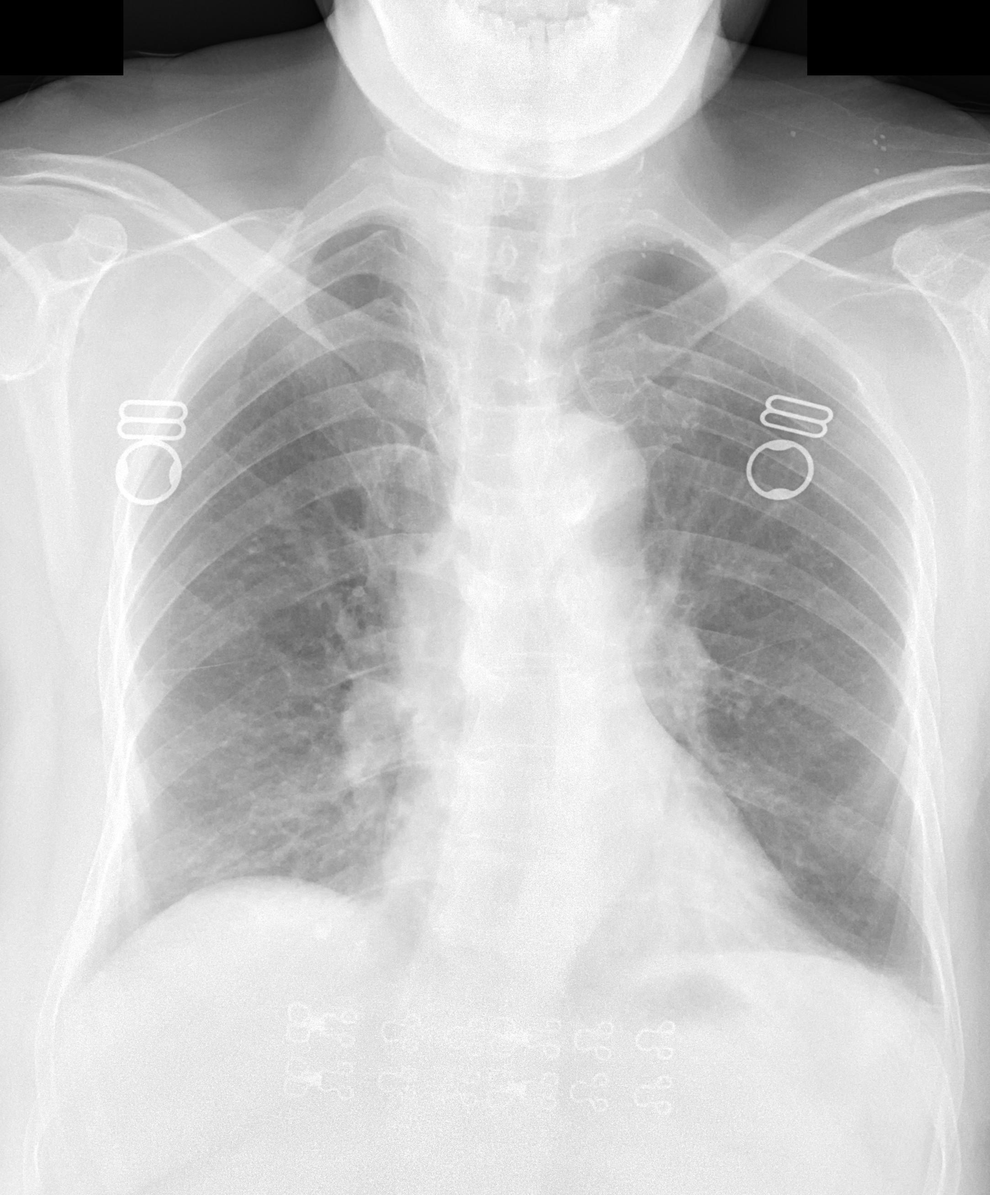Aortic enlargement: (529, 409, 649, 576)
